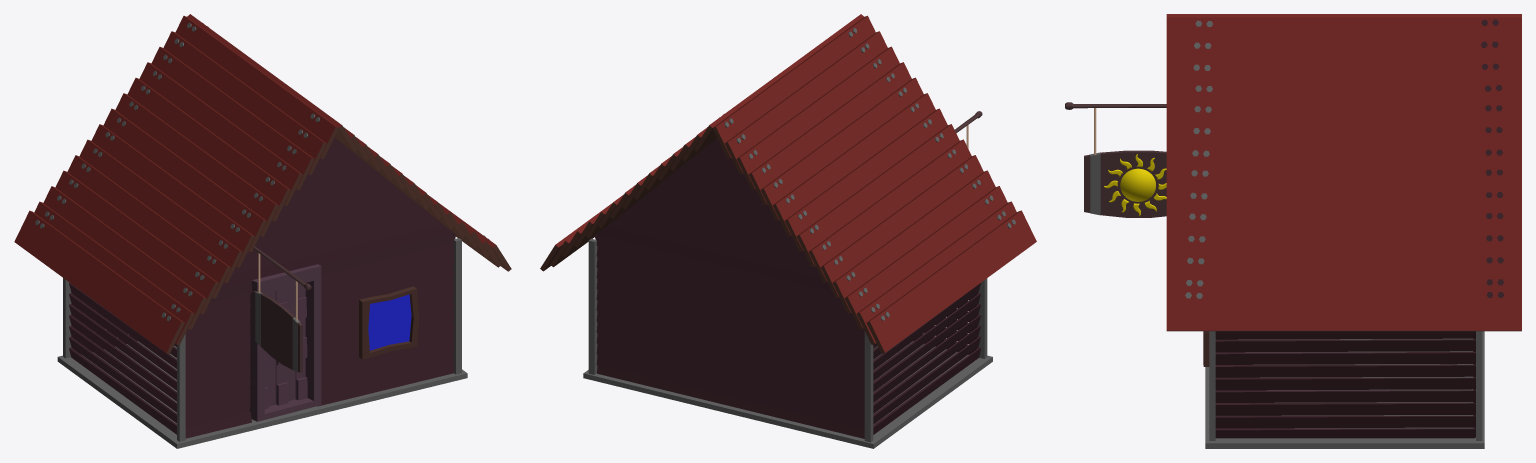
File: CasaSol.fbx
3 renders of one model, left to right at view 1: azimuth 30°, elevation 25°; view 2: azimuth 150°, elevation 25°; view 3: azimuth 270°, elevation 25°, orthographic. The views are drawn at different scales.
Parts seen in each view (by area): view 1: CasaSol, PortaSol; view 2: CasaSol; view 3: CasaSol.
Part boxes in pixels (x1,y1,x2,y2): CasaSol: (14,14,511,448); PortaSol: (249,264,321,421); CasaSol: (540,14,1036,448); CasaSol: (1065,14,1521,448).
Bounding box in the file's own units: 571 × 473 × 560.
